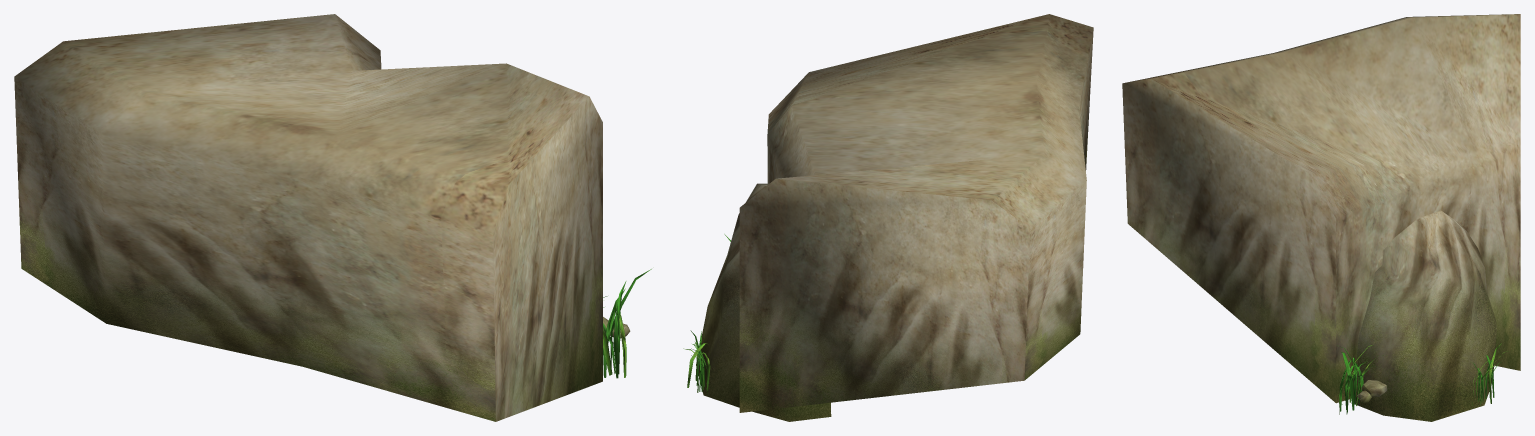
The model's file is a_SWTsetB05.glb.
3 views of the same model, side by side, from view 1: azimuth 30°, elevation 25°; view 2: azimuth 150°, elevation 25°; view 3: azimuth 270°, elevation 25° (orthographic). The views are drawn at different scales.
Parts seen in each view (by area): view 1: a_SWTsetB05; view 2: a_SWTsetB05; view 3: a_SWTsetB05.
Boxes of the visible parts, x1,y1,x2,y2 form: a_SWTsetB05: [14, 14, 651, 421]; a_SWTsetB05: [683, 14, 1093, 421]; a_SWTsetB05: [1122, 14, 1520, 421].
Size of the model in its own units: 5.66 by 3.79 by 5.34.
2 materials, 2 textured.
